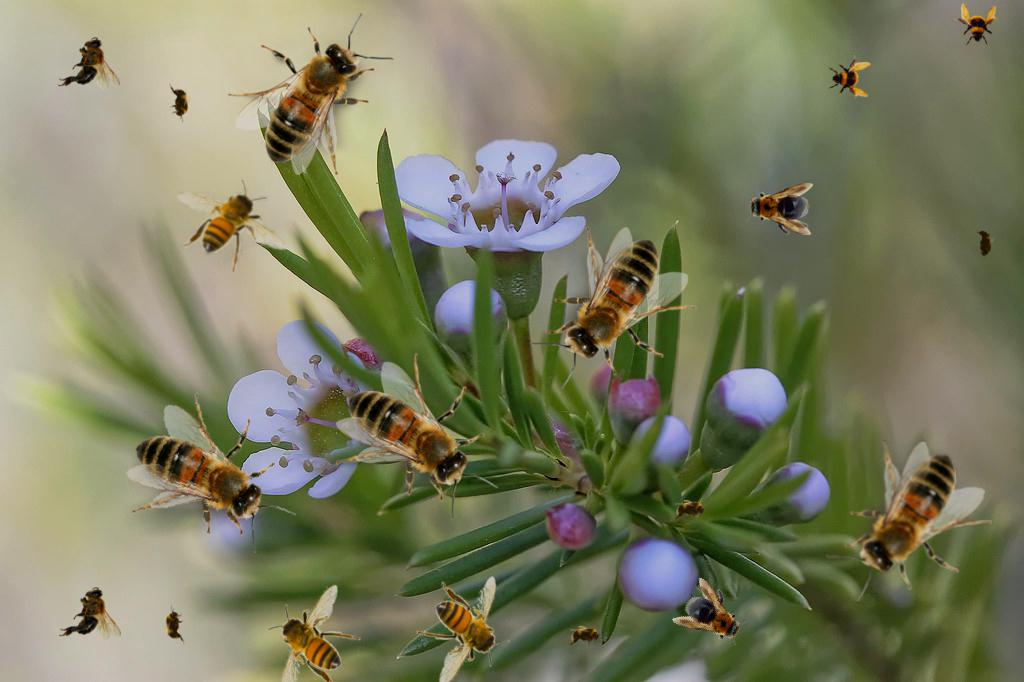Bee: (116, 381, 301, 569), (824, 439, 995, 605), (530, 227, 697, 389), (336, 353, 498, 520), (227, 13, 394, 175), (177, 179, 288, 273), (416, 576, 510, 682), (267, 584, 361, 682), (671, 576, 757, 656), (745, 183, 813, 235), (58, 37, 120, 90), (59, 587, 121, 640), (827, 55, 871, 99), (954, 3, 998, 47), (169, 83, 191, 123), (973, 224, 995, 264), (671, 499, 711, 521), (163, 605, 185, 645), (566, 625, 606, 647)
